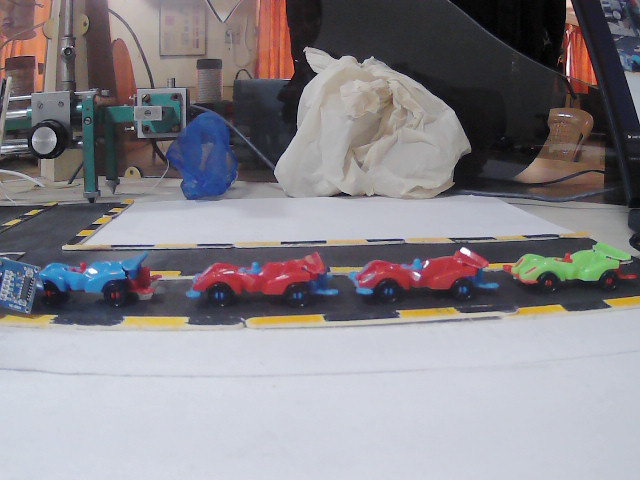car: (28, 254, 170, 319), (189, 261, 339, 311), (365, 256, 486, 315), (510, 239, 640, 284)
uno_breadboard: (0, 246, 37, 332)
